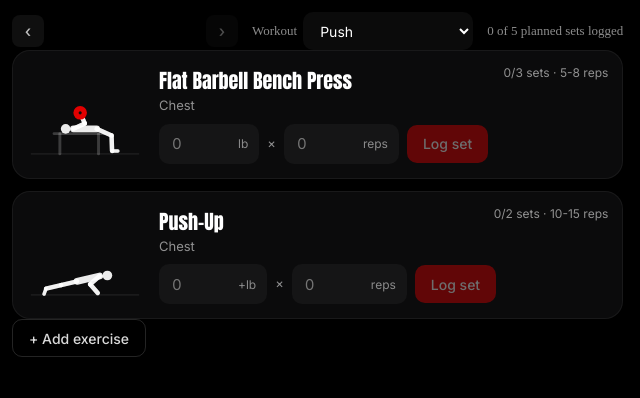
Test case: WorkoutLog › says when a set couldn't be saved
In the field labelled "reps" below "Flat Barbell Bench Press": (326, 144) [295,133,357,154], type "5"
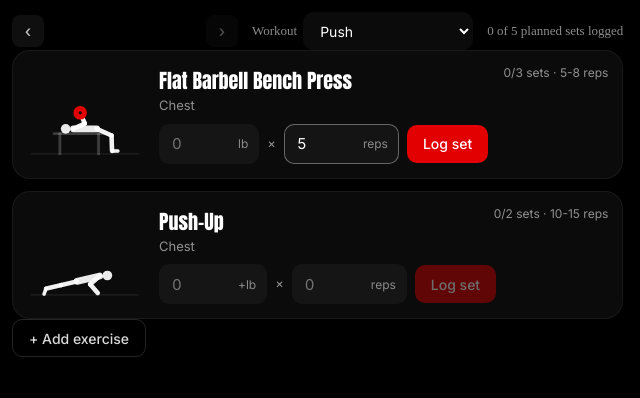
Click the button "Log set" below "Flat Barbell Bench Press": (448, 144) [407,124,488,162]
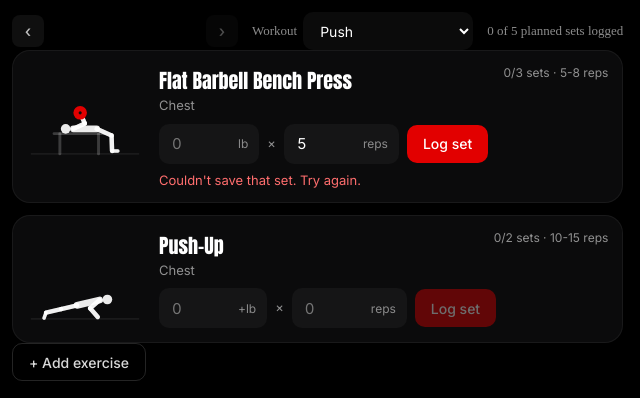
Result: the message reads "Couldn't save that set. Try again." at [159,172,361,188]
